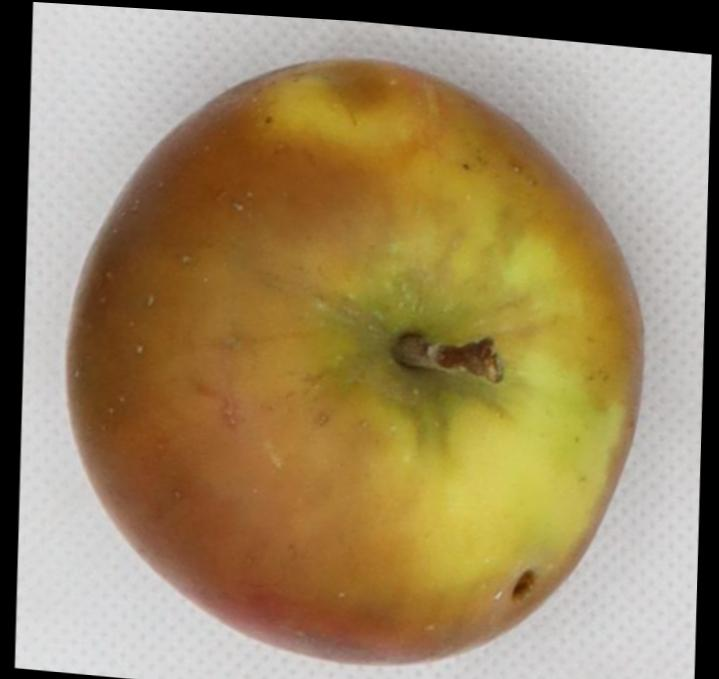apple: (67, 60, 642, 662)
rot_mold_decay: (67, 101, 482, 663)
surface_damage: (510, 570, 535, 601)
